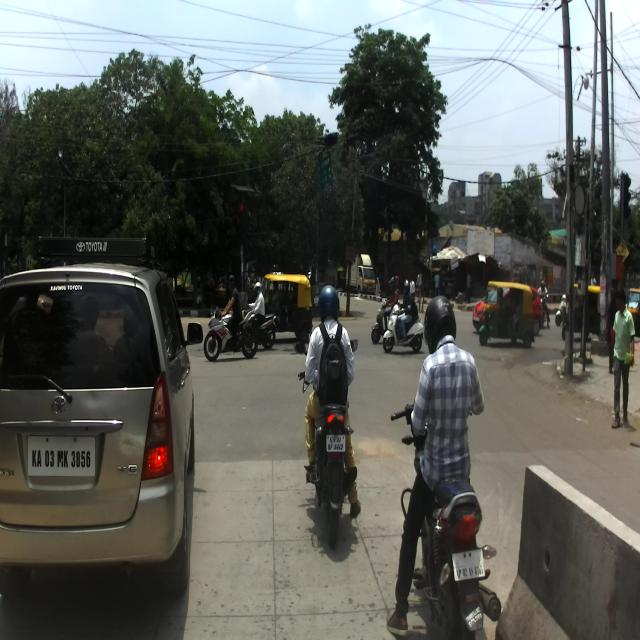car ahead at: (2, 247, 202, 585)
motorcycle ahead at: (417, 485, 500, 640), (300, 411, 361, 549)
